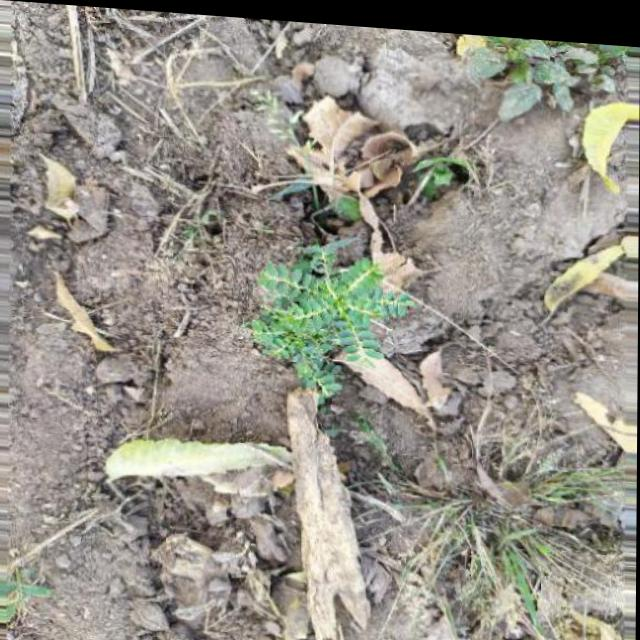weed: (251, 215, 441, 407)
